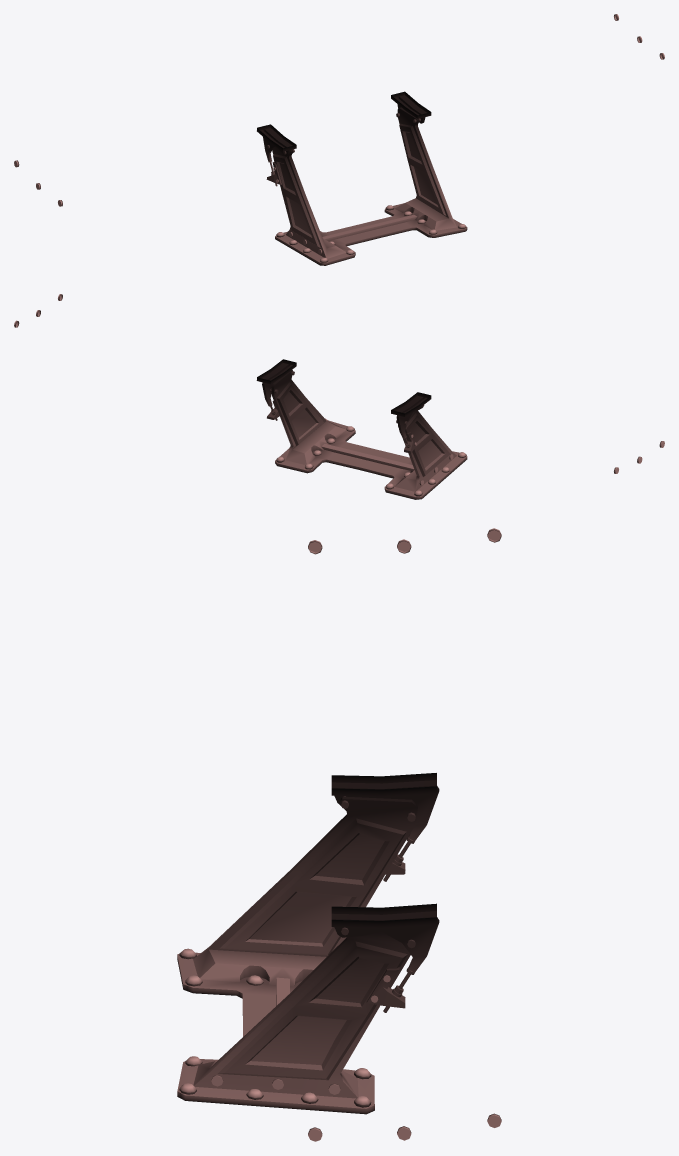
The model's file is R34_Spoiler02_Trim.fbx.
3 views of the same model, one above another, from view 1: azimuth 30°, elevation 25°; view 2: azimuth 150°, elevation 25°; view 3: azimuth 270°, elevation 25° (orthographic). The views are drawn at different scales.
Parts seen in each view (by area): view 1: R34_Spoiler02_Trim; view 2: R34_Spoiler02_Trim; view 3: R34_Spoiler02_Trim.
Part boxes in pixels (box(x1,y1,x2,y2)): R34_Spoiler02_Trim: box(14, 14, 664, 265); R34_Spoiler02_Trim: box(14, 294, 664, 499); R34_Spoiler02_Trim: box(177, 528, 501, 1141).
Size of the model in its own units: 172 by 30.14 by 40.02.
